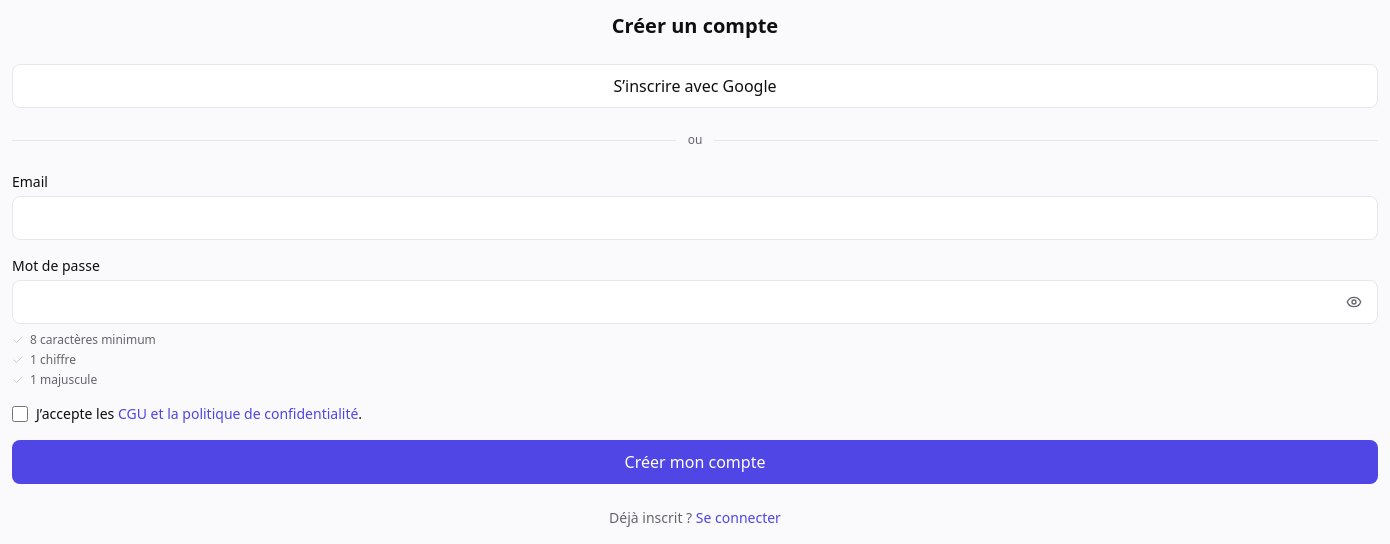
Test: SignupPage › shows neutral confirmation when email already exists (no leak)
Type "foo@x.com" into the field labelled "Email" at (695, 218), box [12,196,1378,240]
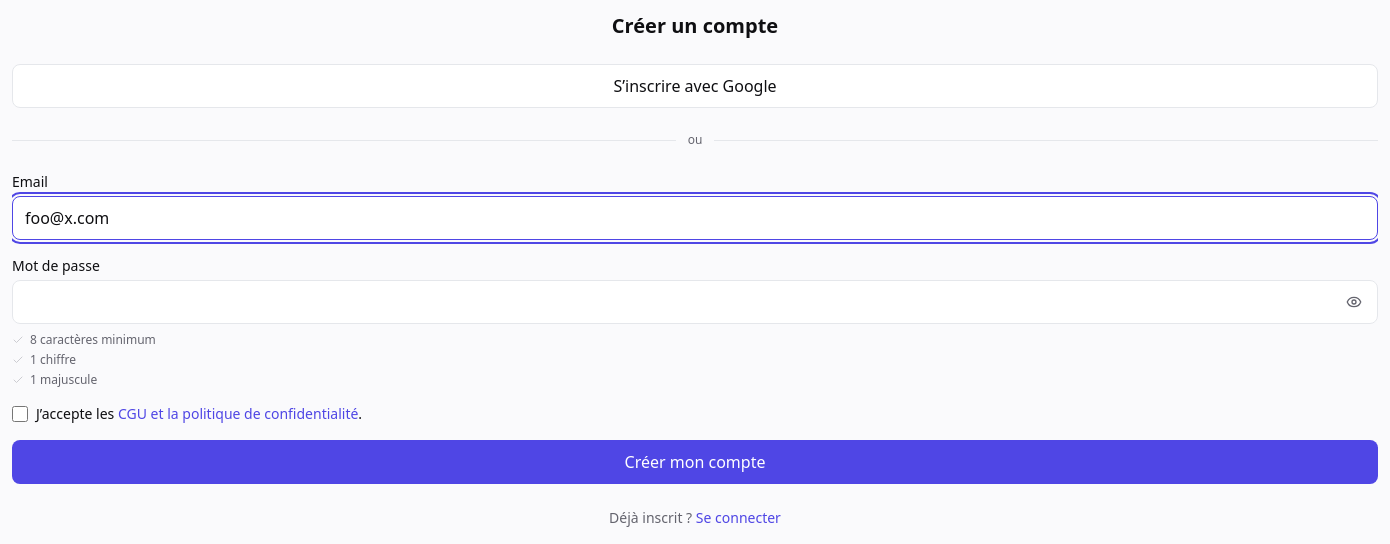
Type "Strong123" into the password field labelled "Mot de passe" at (695, 302), box [12,280,1378,324]
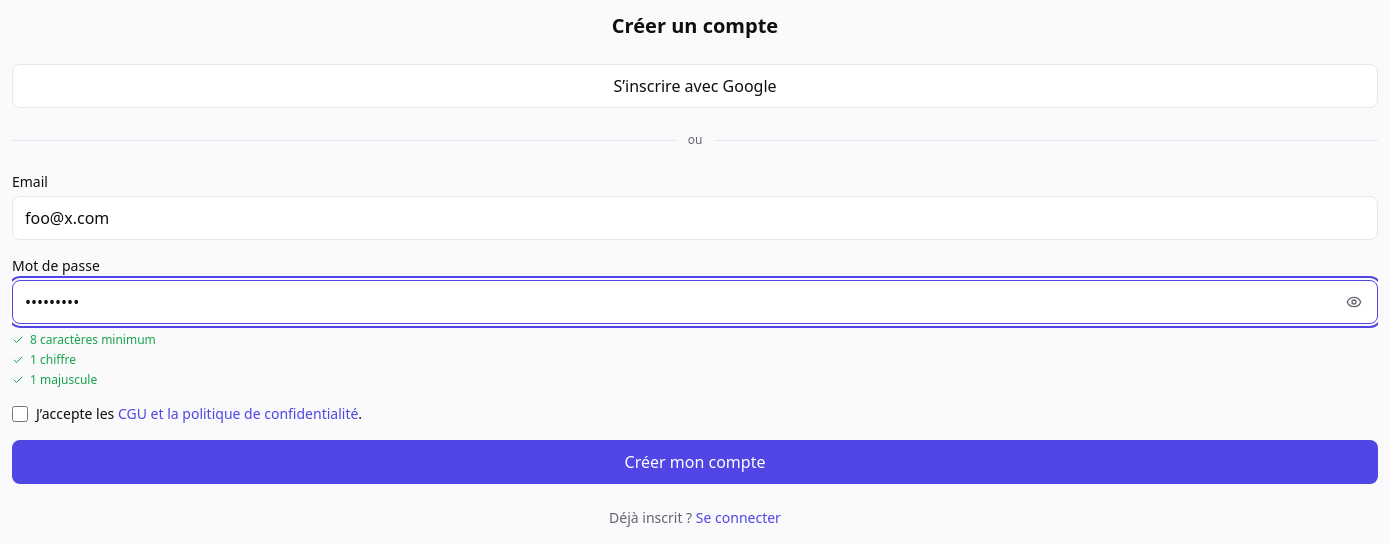
Click the checkbox labelled "J’accepte les CGU et la politique de confidentialité ." at (20, 414), box [12,406,28,422]
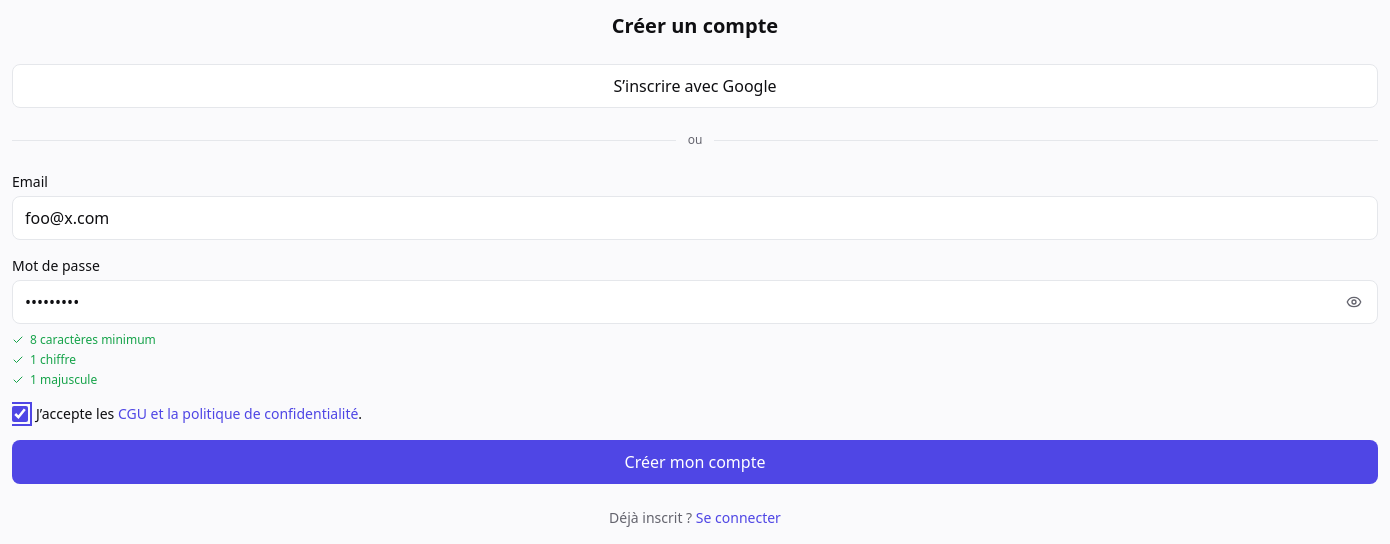
Click the button "Créer mon compte" at (695, 462), box [12,440,1378,484]
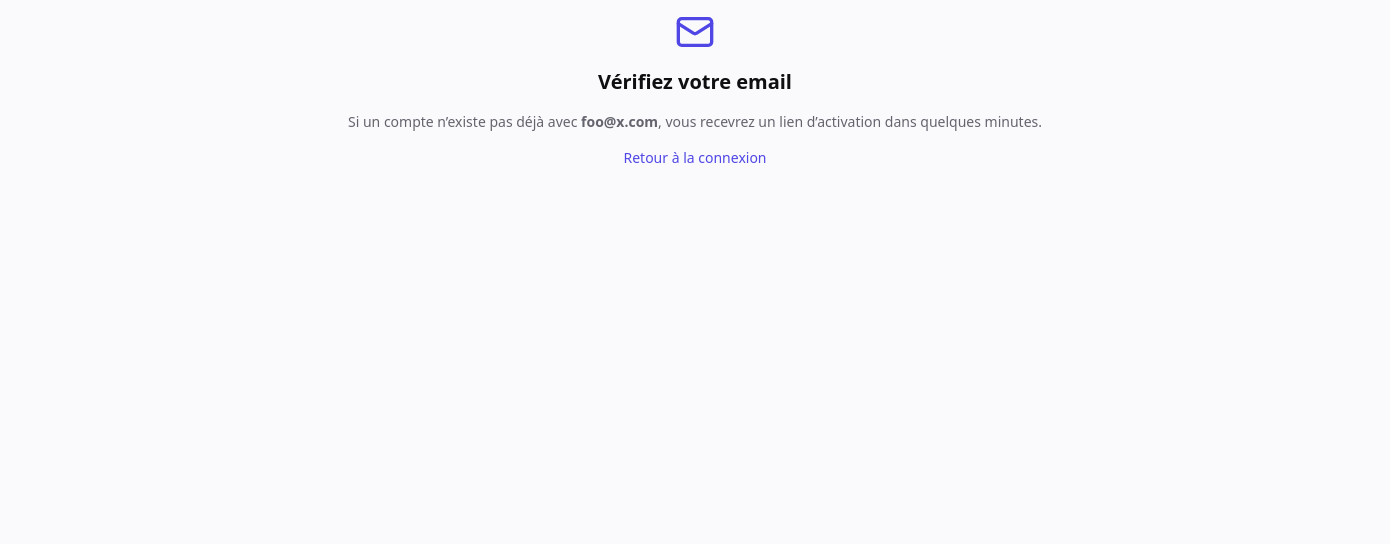
Expected: the heading "Vérifiez votre email" is shown, [598,68,792,96]
